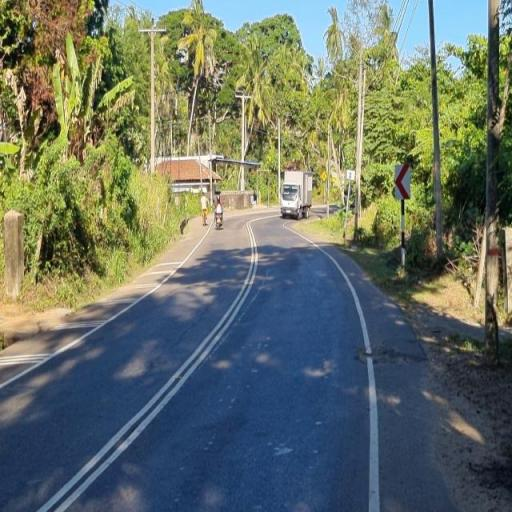double_white_line: (35, 217, 264, 512)
